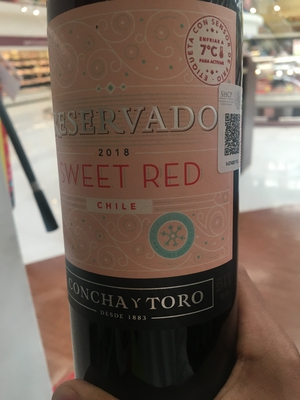reservado sweet red: (46, 4, 248, 384)
